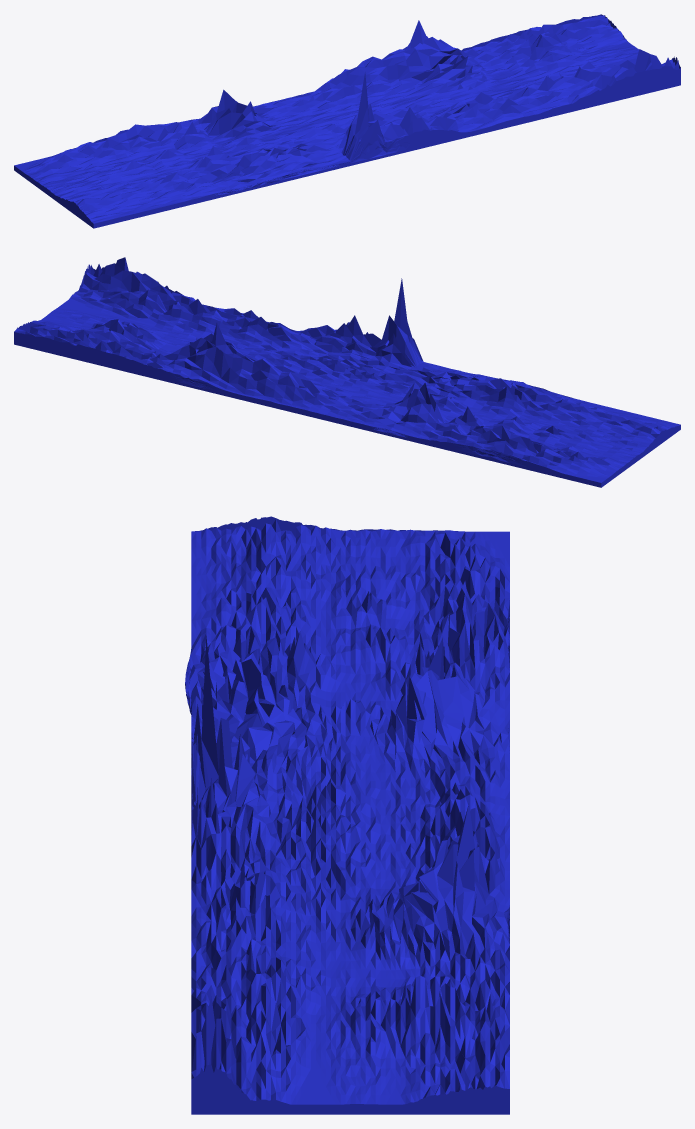
Rendered from ::landscape.dae.
The picture shows the model from 3 angles, top to bottom: view 1: azimuth 30°, elevation 25°; view 2: azimuth 150°, elevation 25°; view 3: azimuth 270°, elevation 25°; orthographic projection. The views are drawn at different scales.
Parts seen in each view (by area): view 1: Cube; view 2: Cube; view 3: Cube.
Part boxes in pixels (x1,y1,x2,y2): Cube: [14, 14, 680, 228]; Cube: [14, 257, 680, 487]; Cube: [185, 516, 509, 1114].
Size of the model in its own units: 148 by 35.52 by 21.14.
